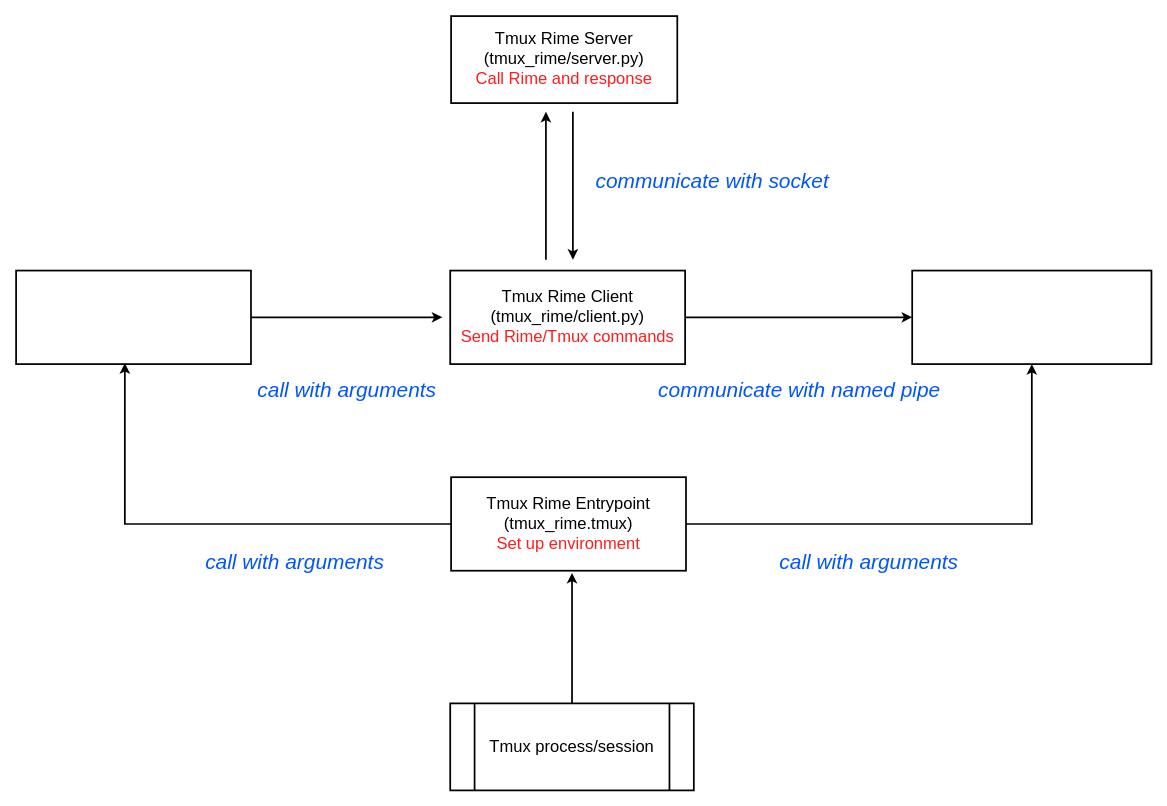
The diagram is 1167 pixels wide and 806 high, and some of its shapes have lost their labels. Each missing label, with the centre of its shape:
Tmux binding configs ( scripts/bindings.sh ) Set up keybindings: pixel 133 317
Tmux Rime script ( scripts/tmux_rime.sh) Event Loop: pixel 1031 317
